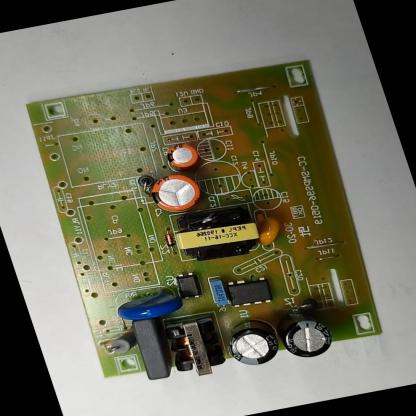Cap1: (146, 169, 204, 215)
Cap2: (162, 143, 200, 170)
Cap3: (218, 314, 286, 370)
Cap4: (274, 304, 339, 361)
MOSFET: (223, 274, 273, 309)
Mov: (110, 284, 186, 324)
Resistor: (102, 328, 138, 356)
Transformer: (169, 201, 265, 266), (160, 313, 229, 381)
